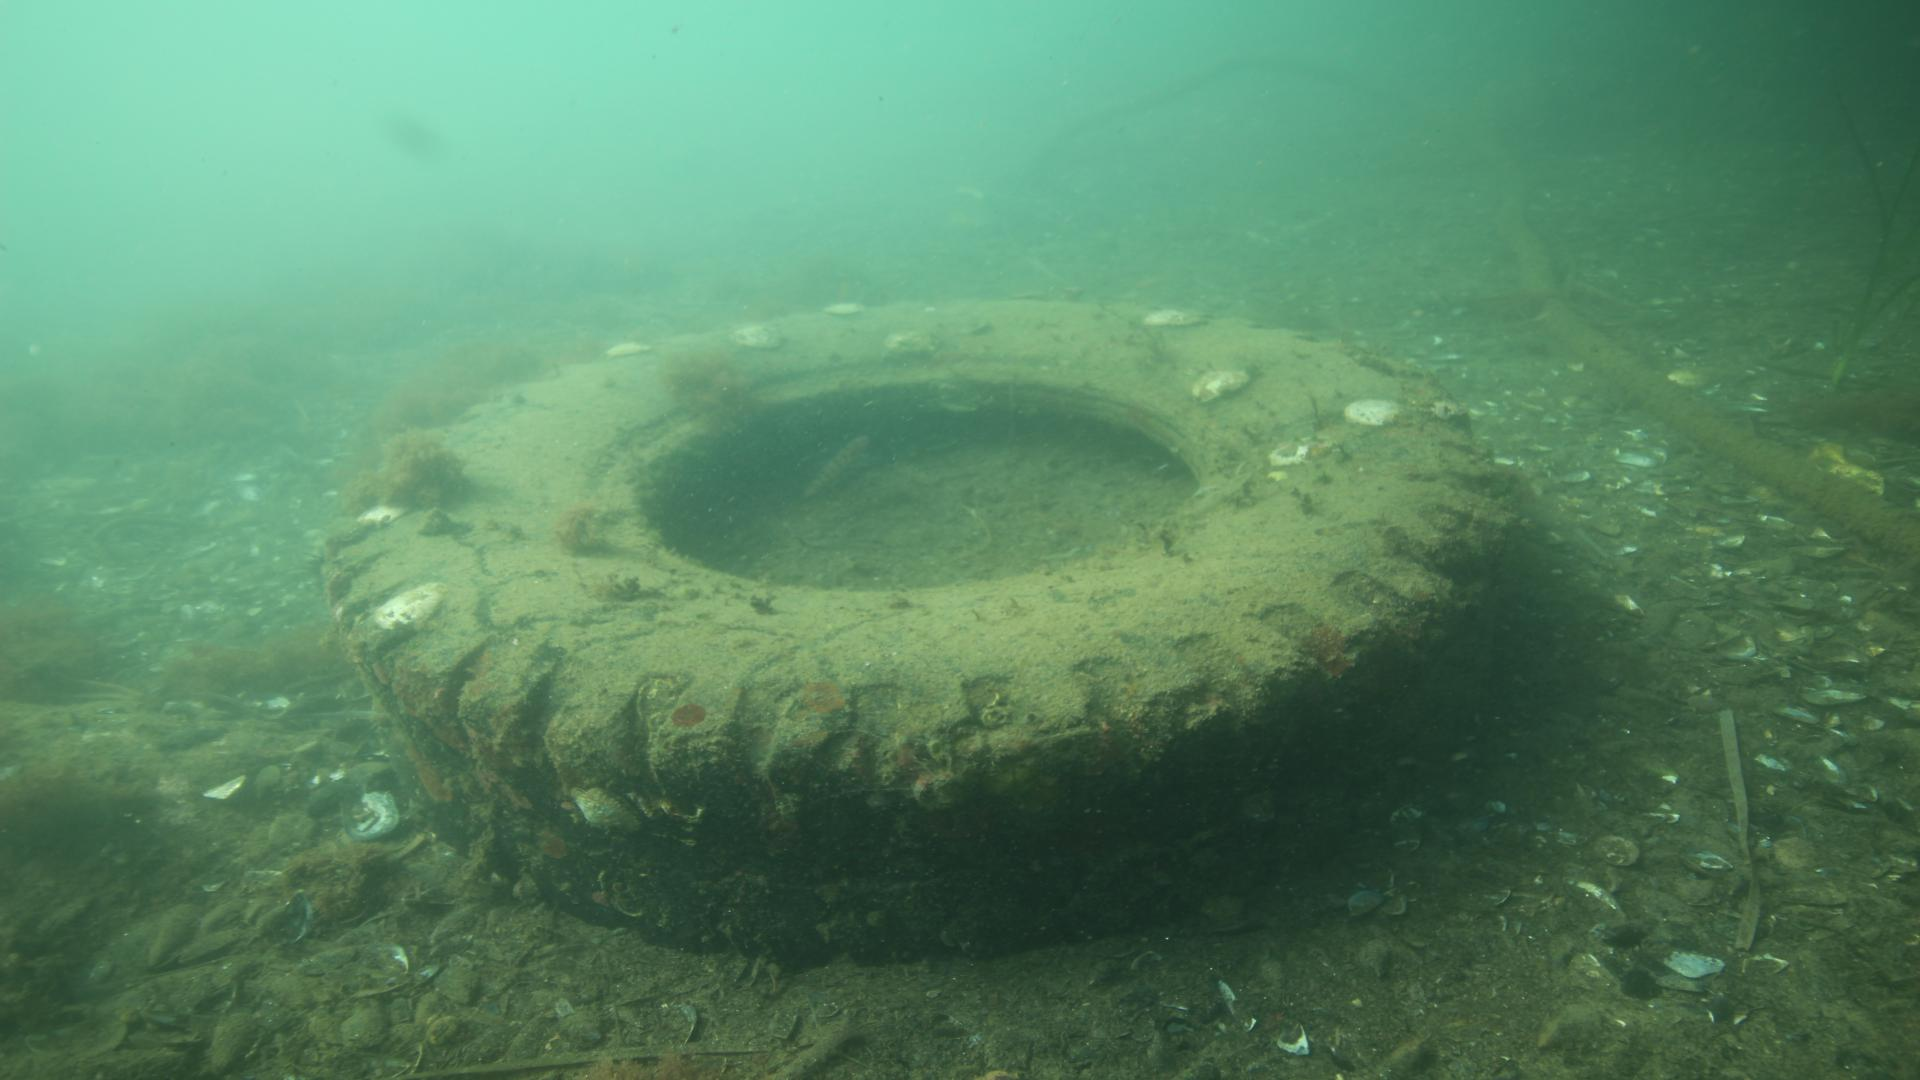tire: (324, 297, 1516, 963)
